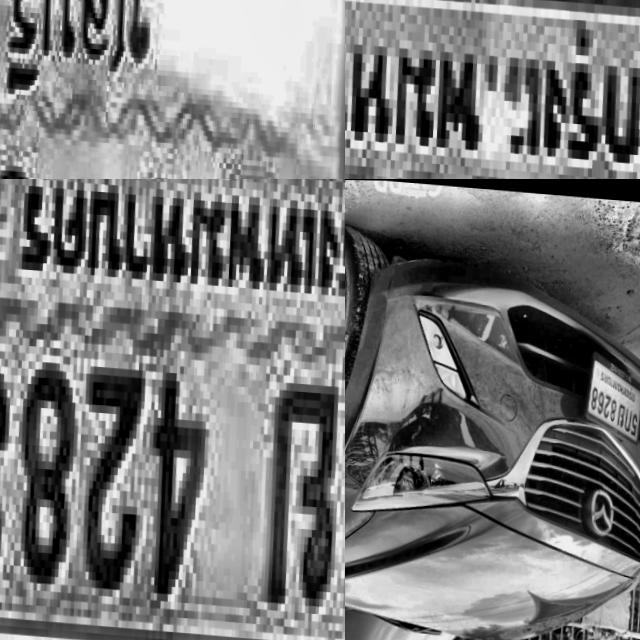license-plate: (0, 179, 345, 640), (0, 0, 345, 179), (345, 0, 640, 179), (571, 347, 640, 444)
